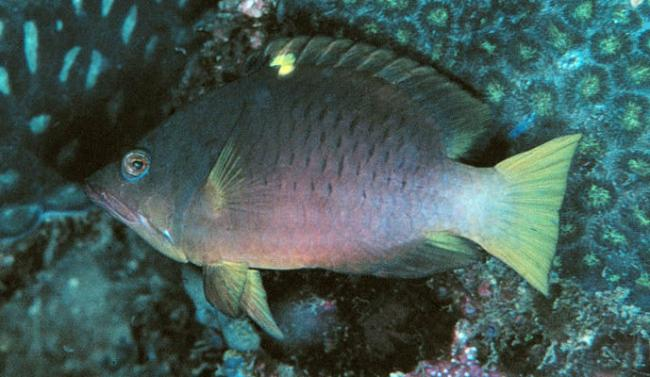fish: (83, 35, 585, 339)
